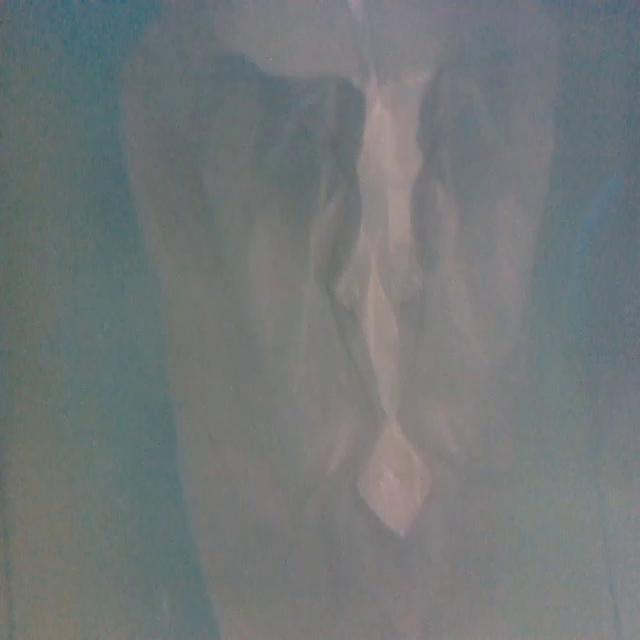plastic bags: (117, 4, 557, 640)
